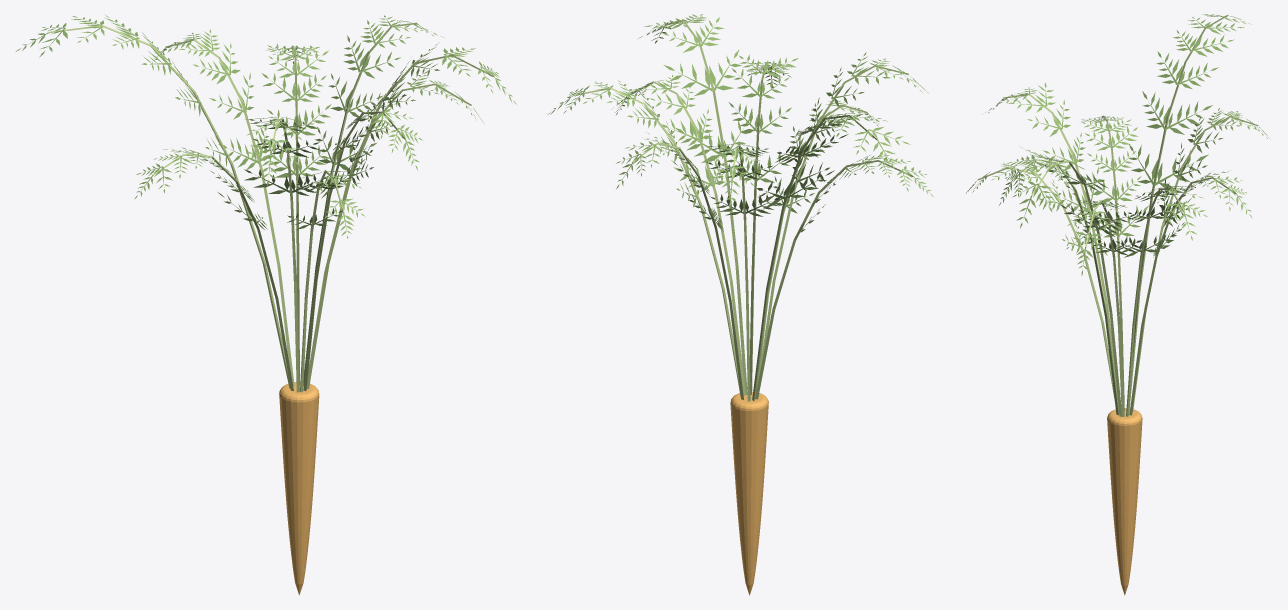
The model's file is carrot_harvest_v09.glb.
3 renders of one model, left to right at view 1: azimuth 30°, elevation 25°; view 2: azimuth 150°, elevation 25°; view 3: azimuth 270°, elevation 25°, orthographic. The views are drawn at different scales.
Visible parts, largest first — view 1: plant; view 2: plant; view 3: plant.
Boxes of the visible parts, x1,y1,x2,y2 form: plant: [15, 14, 516, 595]; plant: [547, 14, 933, 595]; plant: [966, 14, 1269, 595].
Size of the model in its own units: 0.3428 by 0.4788 by 0.2674.
Materials: 1 (1 with a texture image).
